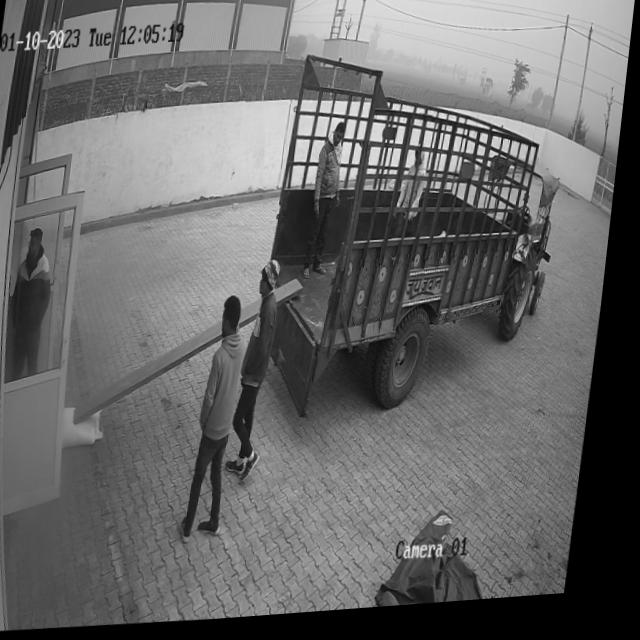sack: (69, 405, 115, 451)
